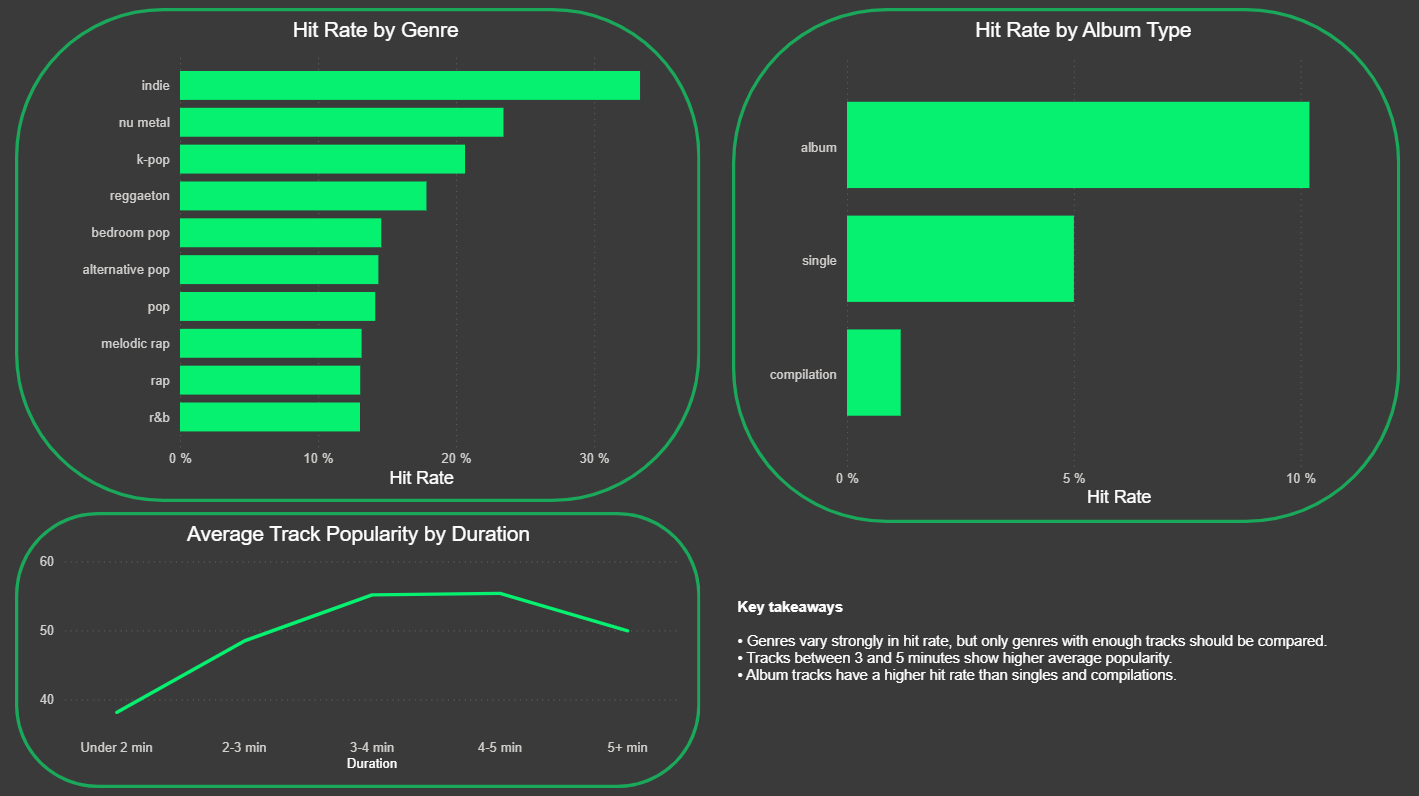

The dashboard page shown, as its layout file describes it:
{"tool":"powerbi","page":{"name":"Popularity Drivers","canvas":[1280,720],"ordinal":1},"visuals":[{"type":"shape","box":[13.5,462.2,617.6,248.6],"z":0},{"type":"shape","box":[659,7.8,602,464],"z":1000},{"type":"shape","box":[12.9,7.8,617.6,445.1],"z":2000},{"type":"lineChart","title":"Average Track Popularity by Duration","fields":{"Category":["Spotify.Duration Bucket"],"Y":["Spotify.Average Popularity"]},"box":[29.7,471.6,586.5,228.4],"z":3000},{"type":"barChart","title":"Hit Rate by Genre","fields":{"Category":["Spotify.Primary Genre"],"Y":["Spotify.Hit Rate Genre Min 30"]},"box":[60.4,17.4,555.2,427.4],"z":4000},{"type":"barChart","title":"Hit Rate by Album Type","fields":{"Category":["Spotify.album_type"],"Y":["Spotify.Hit Rate"]},"box":[679.5,17.4,592.4,444.9],"z":5000},{"type":"textbox","box":[659,534.8,621,96.6],"z":6000}]}

Visuals, with their boxes in screenshot pixels (x1, y1, x2, y2), scaled from the page's 1280x720 canvas onto the 1419x796 screenshot:
shape: <region>15, 511, 700, 786</region>
shape: <region>731, 9, 1398, 522</region>
shape: <region>14, 9, 699, 501</region>
"Average Track Popularity by Duration" lineChart: <region>33, 521, 683, 774</region>
"Hit Rate by Genre" barChart: <region>67, 19, 682, 492</region>
"Hit Rate by Album Type" barChart: <region>753, 19, 1410, 511</region>
textbox: <region>731, 591, 1418, 698</region>
